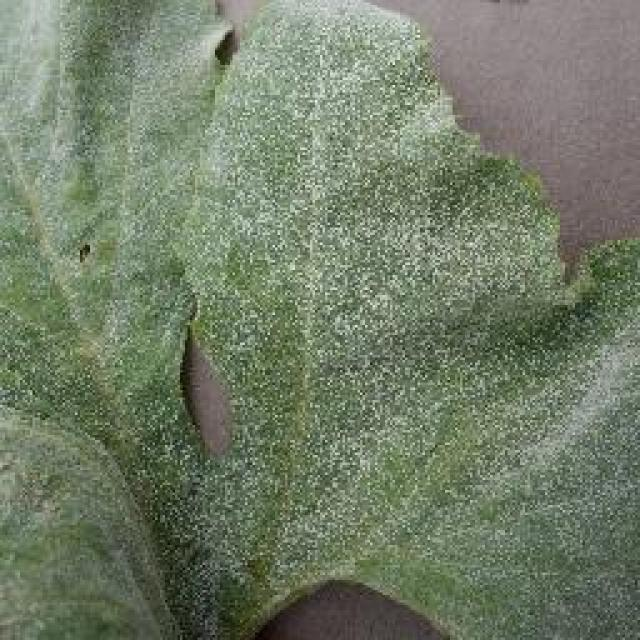Squ_Powdery_mildew: (28, 77, 507, 560)
